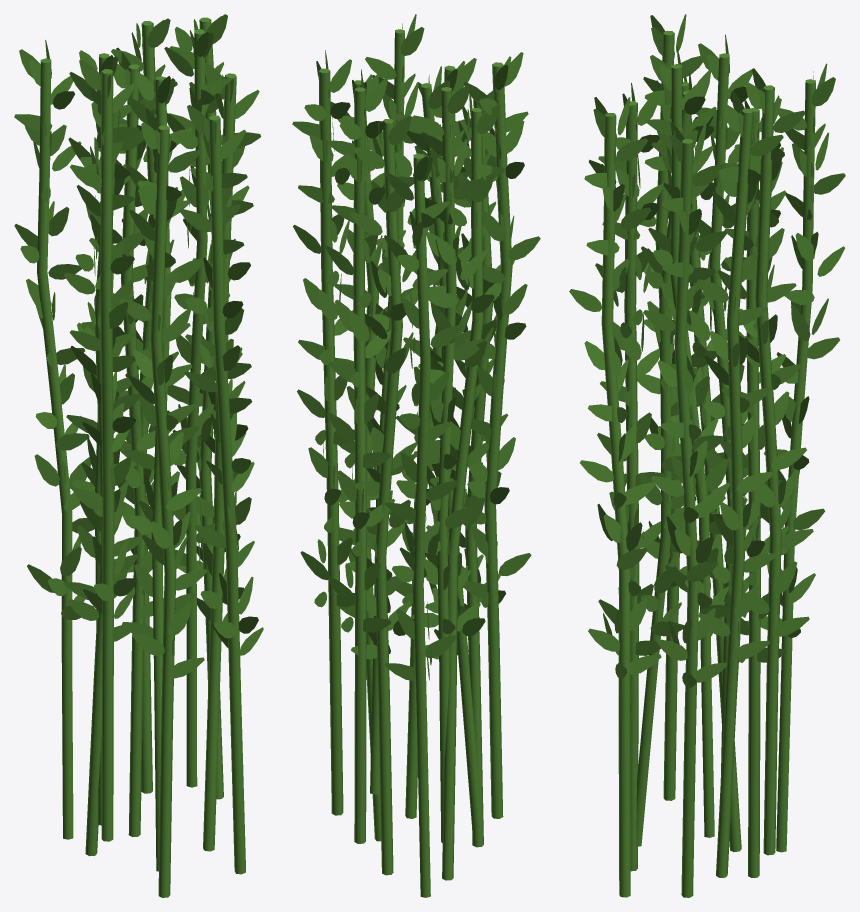
The model's file is seaweed.glb.
The picture shows the model from 3 angles, left to right: view 1: azimuth 30°, elevation 25°; view 2: azimuth 150°, elevation 25°; view 3: azimuth 270°, elevation 25°; orthographic projection. The views are drawn at different scales.
Visible parts, largest first — view 1: BézierCurve.003, BézierCurve.006, BézierCurve.007, BézierCurve.009, BézierCurve, BézierCurve.008, BézierCurve.004, BézierCurve.011, BézierCurve.010, BézierCurve.002, BézierCurve.005, BézierCurve.001; view 2: BézierCurve.002, BézierCurve.003, BézierCurve.009, BézierCurve.001, BézierCurve.011, BézierCurve.005, BézierCurve.010, BézierCurve.004, BézierCurve, BézierCurve.006, BézierCurve.008, BézierCurve.007; view 3: BézierCurve.007, BézierCurve.001, BézierCurve.008, BézierCurve.002, BézierCurve.009, BézierCurve.006, BézierCurve, BézierCurve.004, BézierCurve.011, BézierCurve.005, BézierCurve.003, BézierCurve.010.
Part boxes in pixels (x1,y1,x2,y2): BézierCurve.003: (69,59,139,841); BézierCurve.006: (119,108,207,897); BézierCurve.007: (179,105,263,874); BézierCurve.009: (14,40,94,839); BézierCurve: (164,27,240,787); BézierCurve.008: (185,62,260,851); BézierCurve.004: (122,72,203,871); BézierCurve.011: (89,47,174,836); BézierCurve.010: (64,90,144,856); BézierCurve.002: (111,18,185,793); BézierCurve.005: (64,50,144,825); BézierCurve.001: (169,14,249,799); BézierCurve.002: (325,69,395,843); BézierCurve.003: (463,52,540,818); BézierCurve.009: (384,152,462,897); BézierCurve.001: (292,50,354,815); BézierCurve.011: (350,116,418,875); BézierCurve.005: (410,71,487,842); BézierCurve.010: (424,104,504,880); BézierCurve.004: (394,66,483,825); BézierCurve: (347,14,431,794); BézierCurve.006: (452,90,514,847); BézierCurve.008: (330,74,402,841); BézierCurve.007: (389,58,476,818); BézierCurve.007: (569,97,661,897); BézierCurve.001: (697,91,783,877); BézierCurve.008: (643,122,726,897); BézierCurve.002: (724,68,813,855); BézierCurve.009: (760,63,845,852); BézierCurve.006: (595,83,664,871); BézierCurve: (646,45,730,837); BézierCurve.004: (636,71,716,846); BézierCurve.011: (717,98,788,877); BézierCurve.005: (695,34,761,779); BézierCurve.003: (637,14,702,800); BézierCurve.010: (657,70,748,851).
Bounding box in the file's own units: 2.06 × 7.78 × 2.32.
